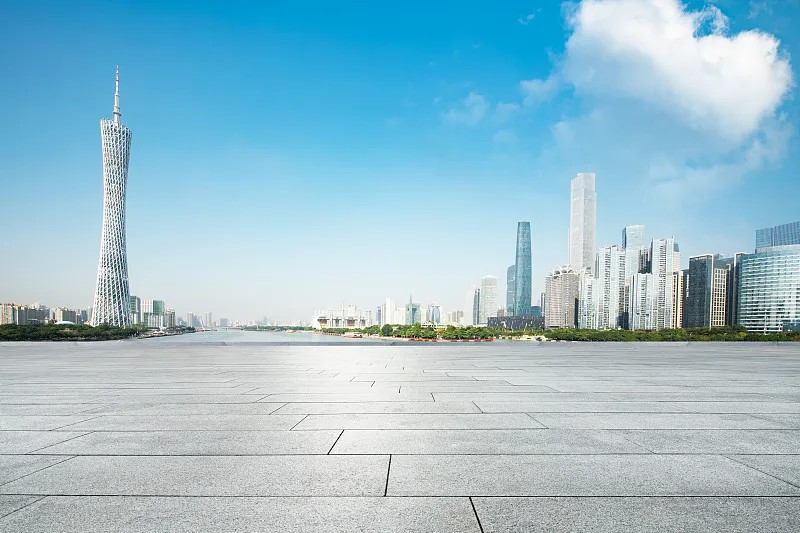Canton: (92, 65, 132, 327)
